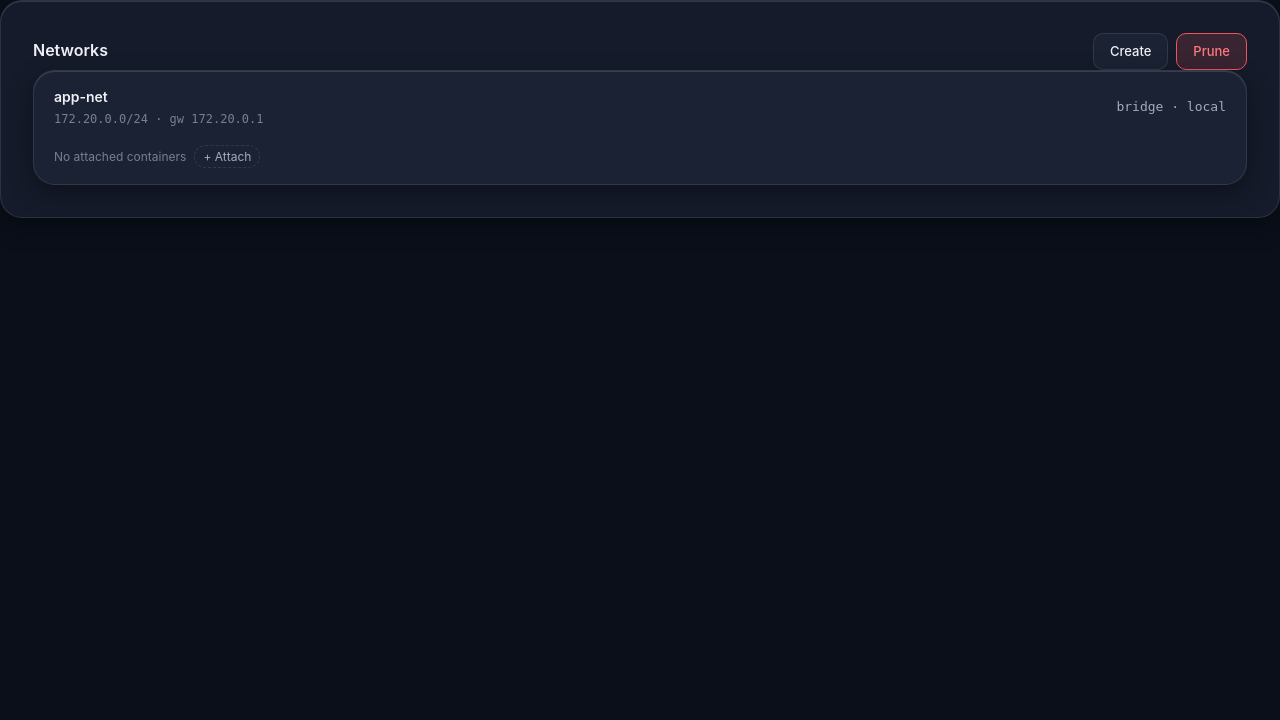
Test: NetworksPanel — attached-container chips (plan-docker_management_app/REQ-72, REQ-74) › attaches a chosen container from the row's "+ Attach" affordance, with no confirmation, and re-reads the list
Click the button "+ Attach" at (227, 156), box [194,144,260,168]
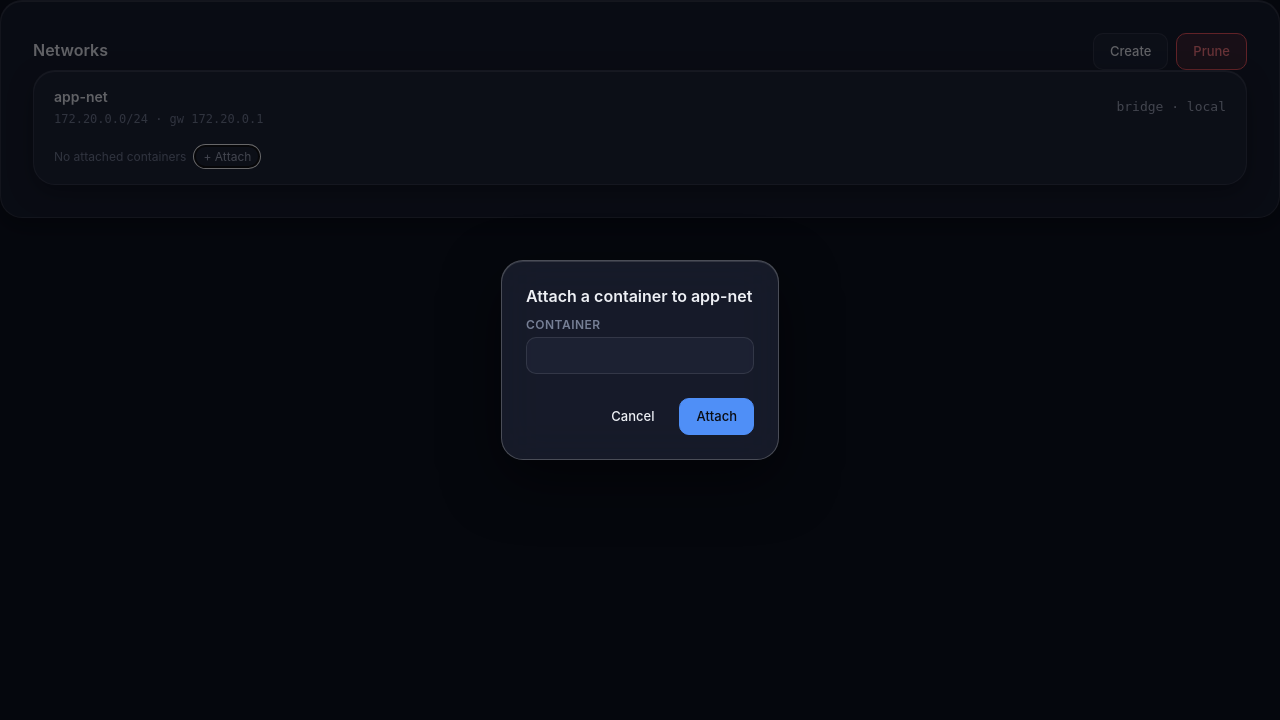
Check: the heading "Attach a container to app-net" is shown, box [526,285,754,308]
Type "app-1" into the dropdown named "Container" at (640, 356), box [526,337,754,374]
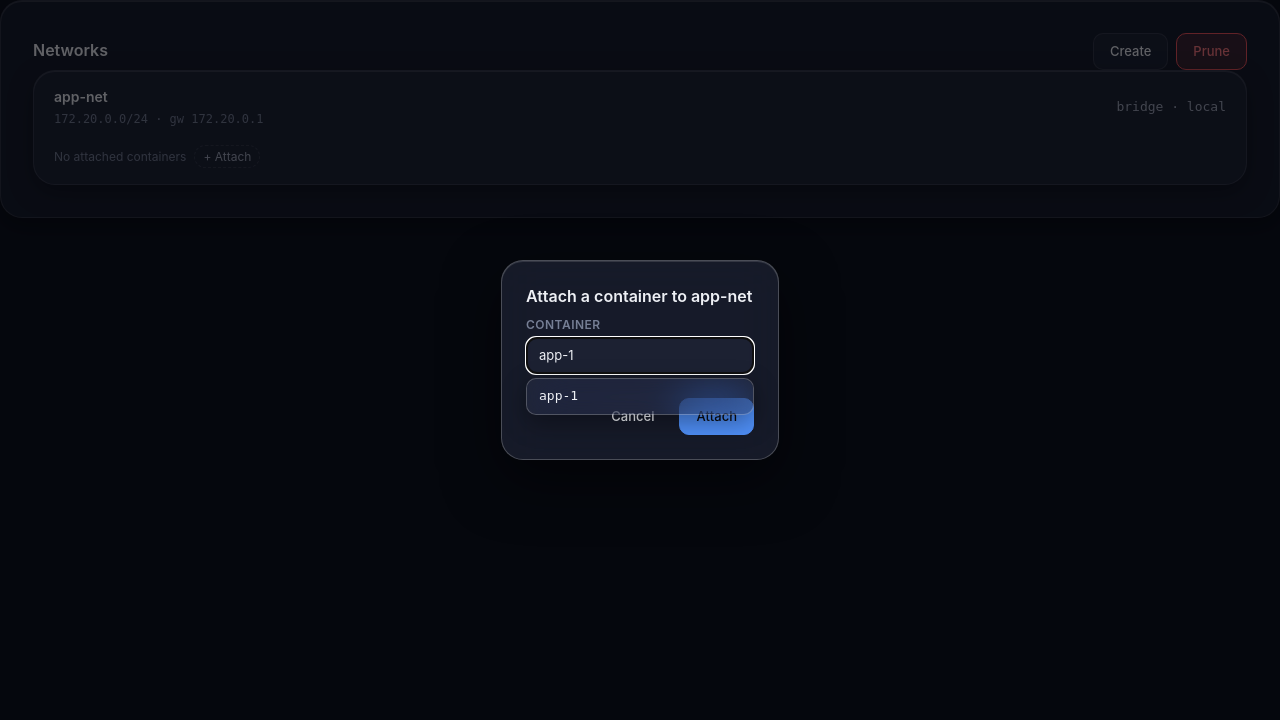
Click the option "app-1" at (640, 397), box [527,379,753,414]
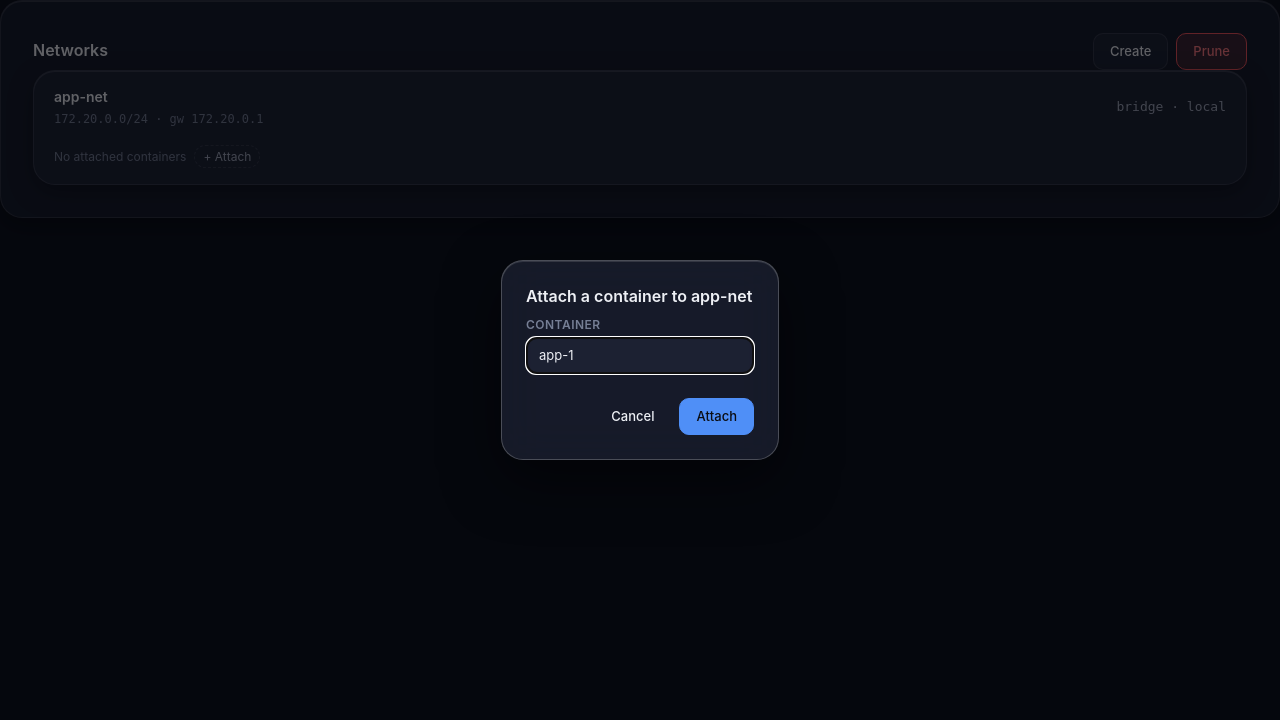
Click the button "Attach" at (717, 417), box [680,398,754,435]
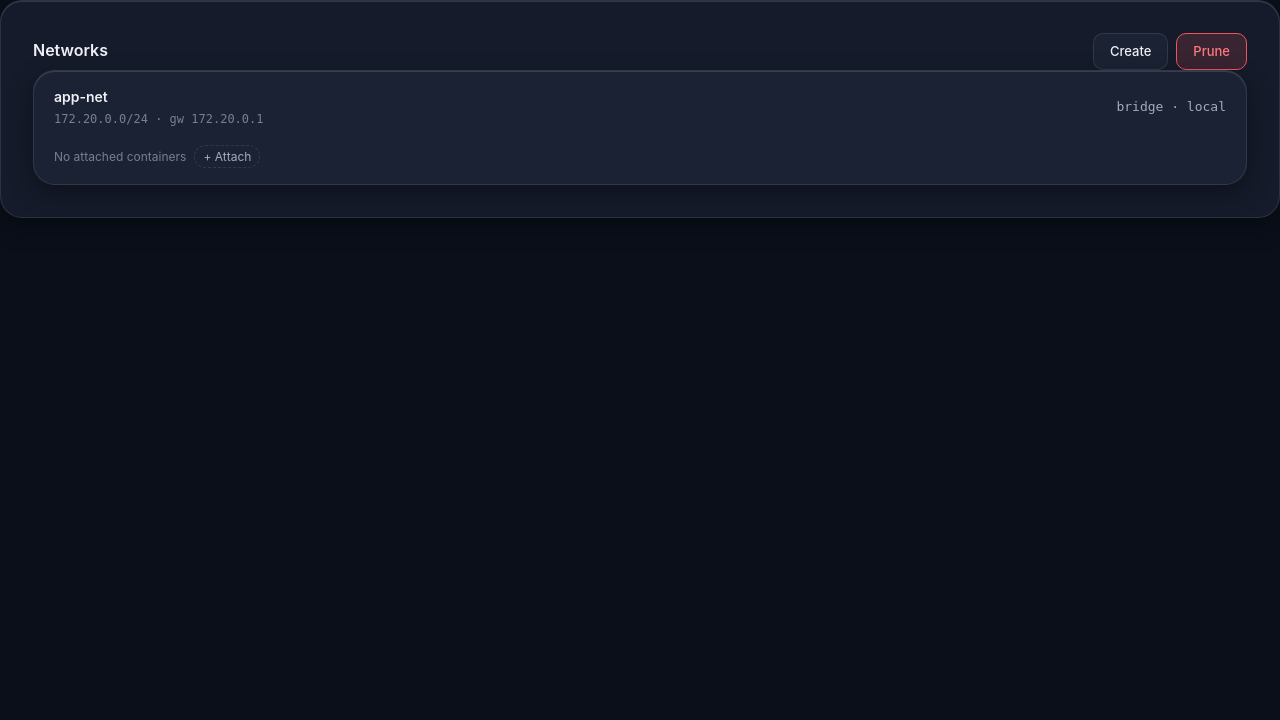
Check: the heading "Attach a container to app-net" is gone
